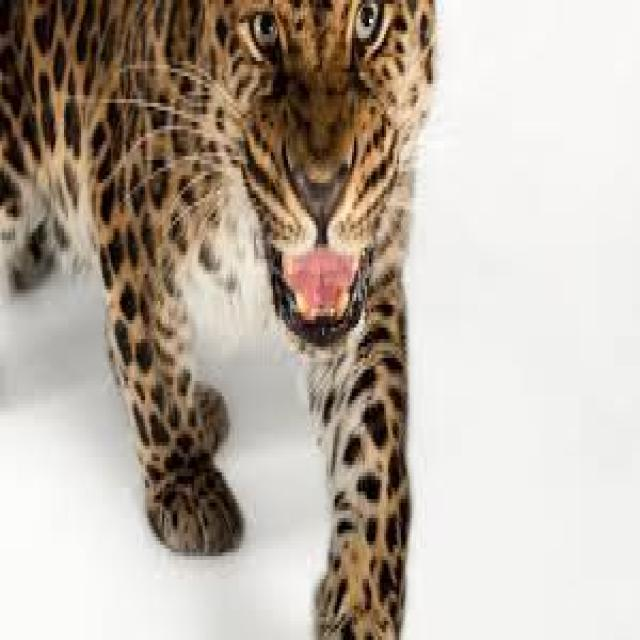Leopard: (0, 0, 437, 640)
